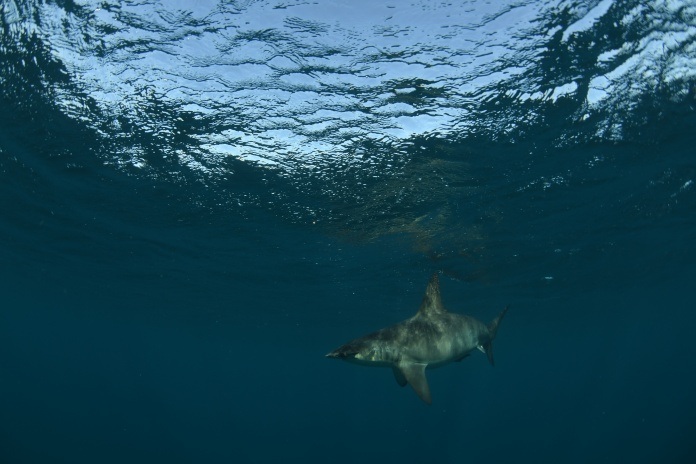Hammer: (315, 259, 532, 415)
